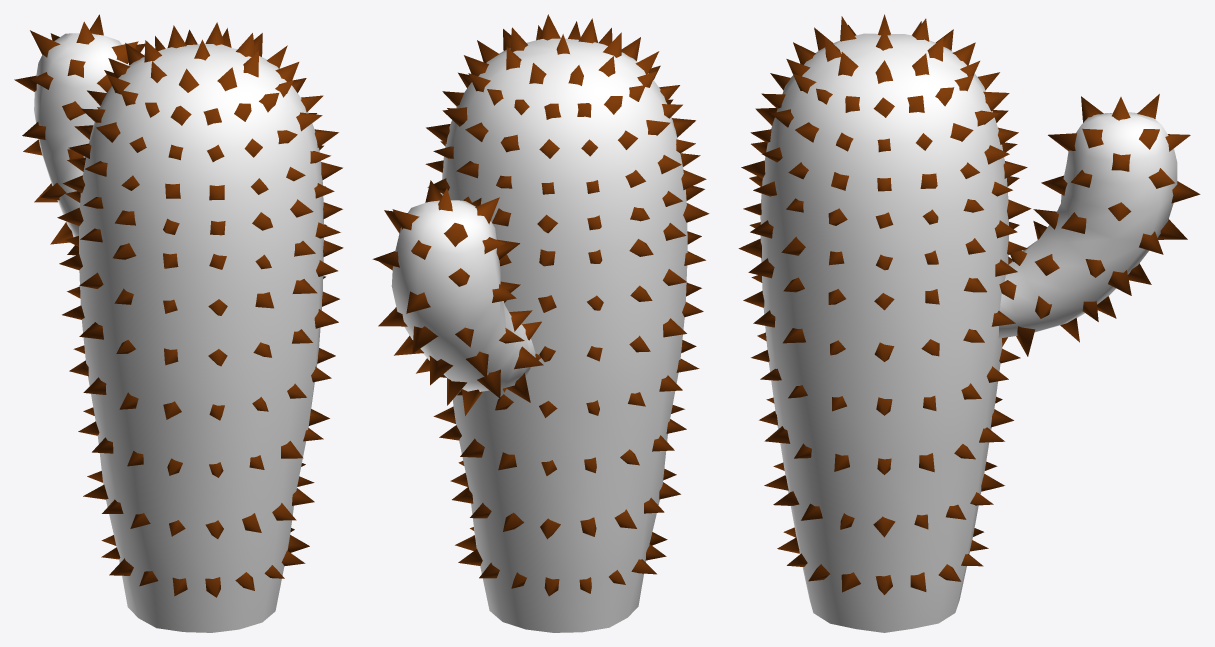
The model's file is cactus.glb.
The picture shows the model from 3 angles, left to right: view 1: azimuth 30°, elevation 25°; view 2: azimuth 150°, elevation 25°; view 3: azimuth 270°, elevation 25°; orthographic projection.
Visible parts, largest first — view 1: Cactus.003_Cacti001.002_0, Cactus.003_CactiNeedles001.005_0; view 2: Cactus.003_Cacti001.002_0, Cactus.003_CactiNeedles001.005_0; view 3: Cactus.003_Cacti001.002_0, Cactus.003_CactiNeedles001.005_0.
Boxes of the visible parts, x1=… form: Cactus.003_Cacti001.002_0: x1=34, y1=33, x2=323, y2=632; Cactus.003_CactiNeedles001.005_0: x1=14, y1=14, x2=343, y2=597; Cactus.003_Cacti001.002_0: x1=391, y1=38, x2=687, y2=632; Cactus.003_CactiNeedles001.005_0: x1=372, y1=14, x2=709, y2=596; Cactus.003_Cacti001.002_0: x1=760, y1=33, x2=1177, y2=632; Cactus.003_CactiNeedles001.005_0: x1=738, y1=14, x2=1200, y2=594.
Bounding box in the file's own units: 181 × 392 × 287.
